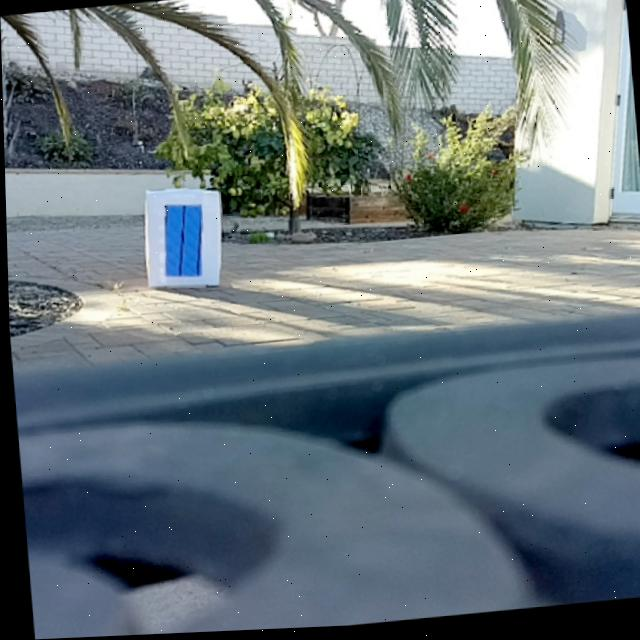led: (157, 201, 206, 282)
